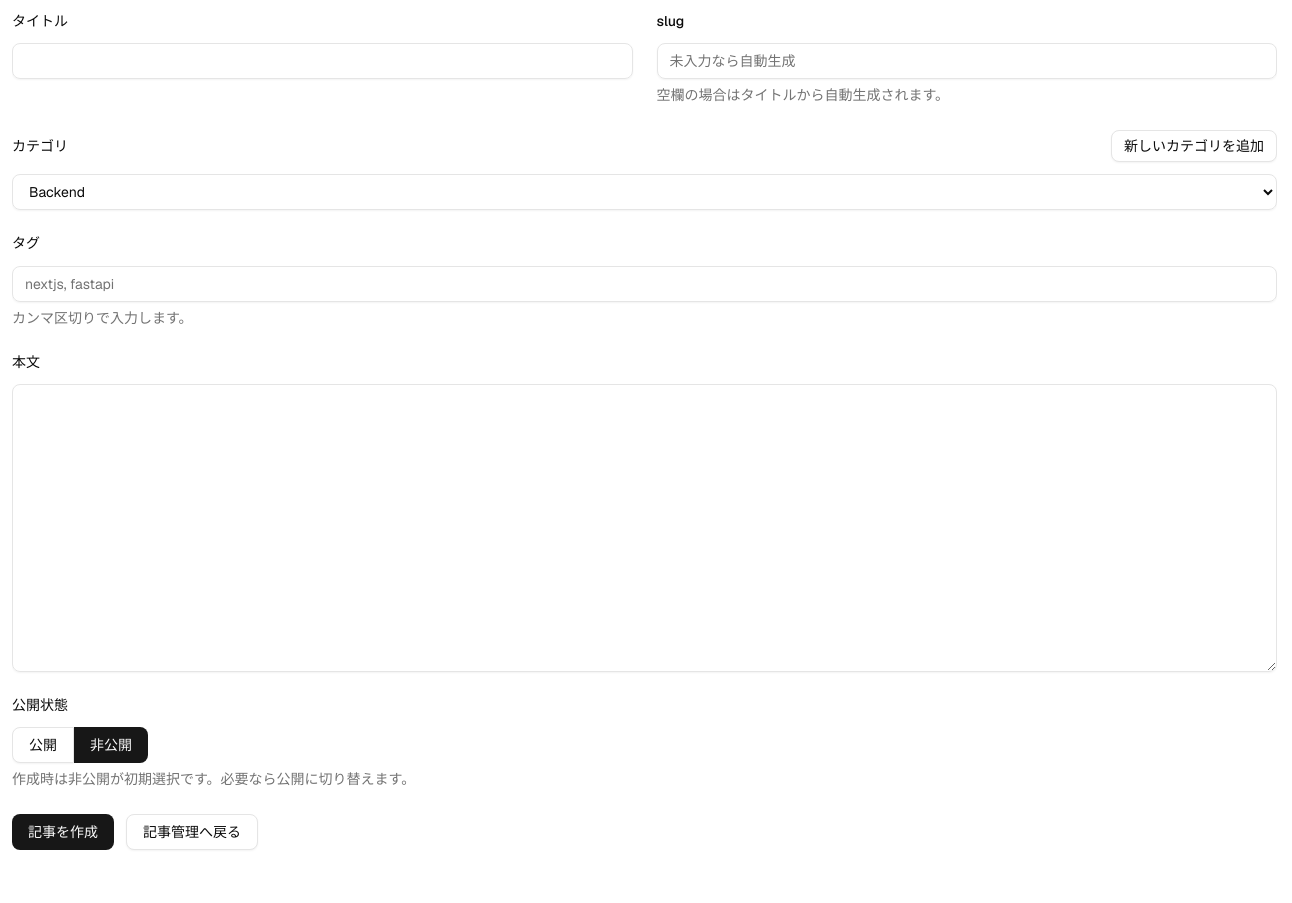
Test: CreateArticleForm › カテゴリ追加ボタンからカテゴリ名入力欄を表示する
Click the button "新しいカテゴリを追加" at (1194, 146), box [1111,130,1277,162]
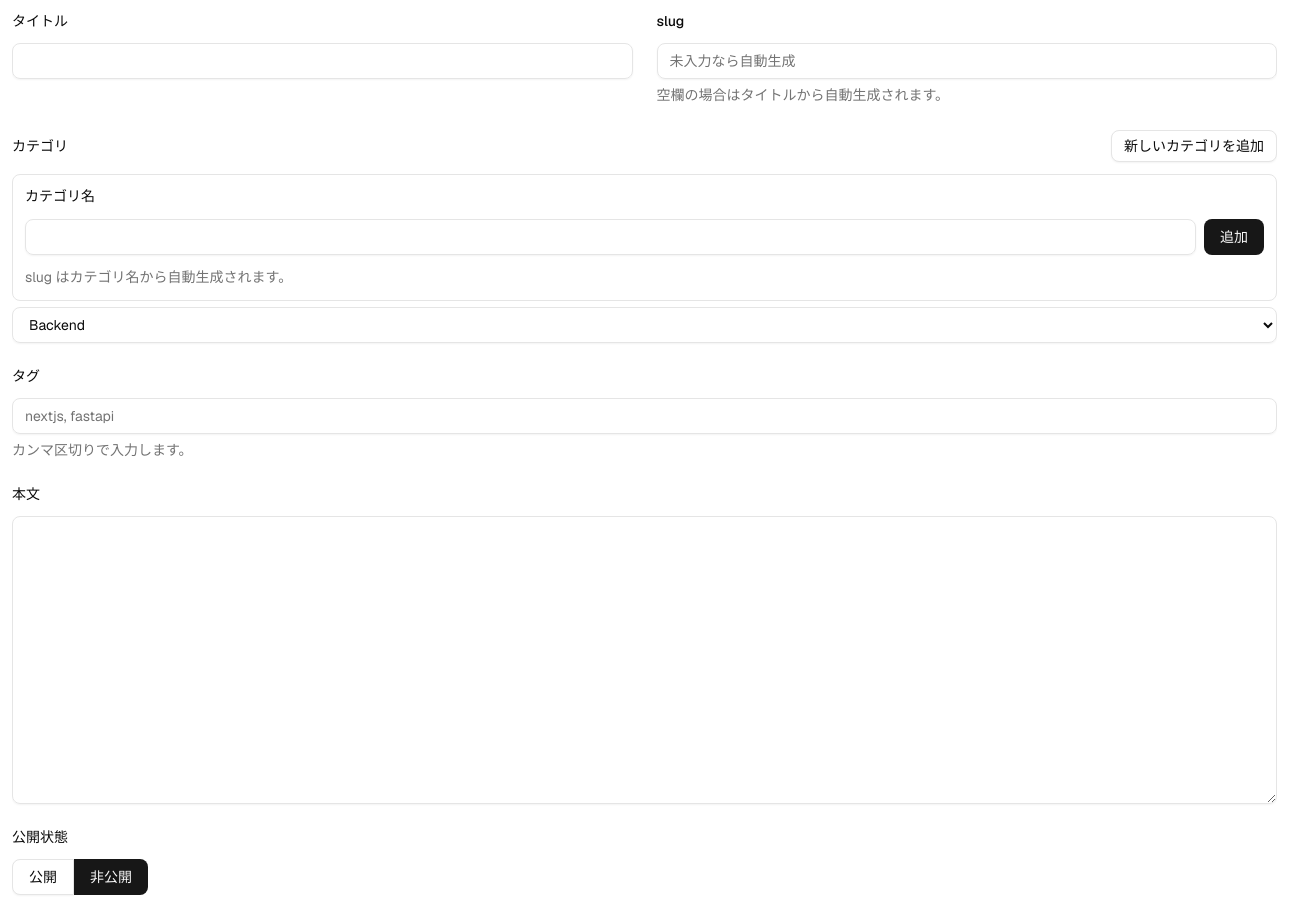
Now the field labelled "カテゴリ名" is shown, box [25,218,1196,254]
Now the text "slug はカテゴリ名から自動生成されます。" is shown, box [25,268,292,286]
